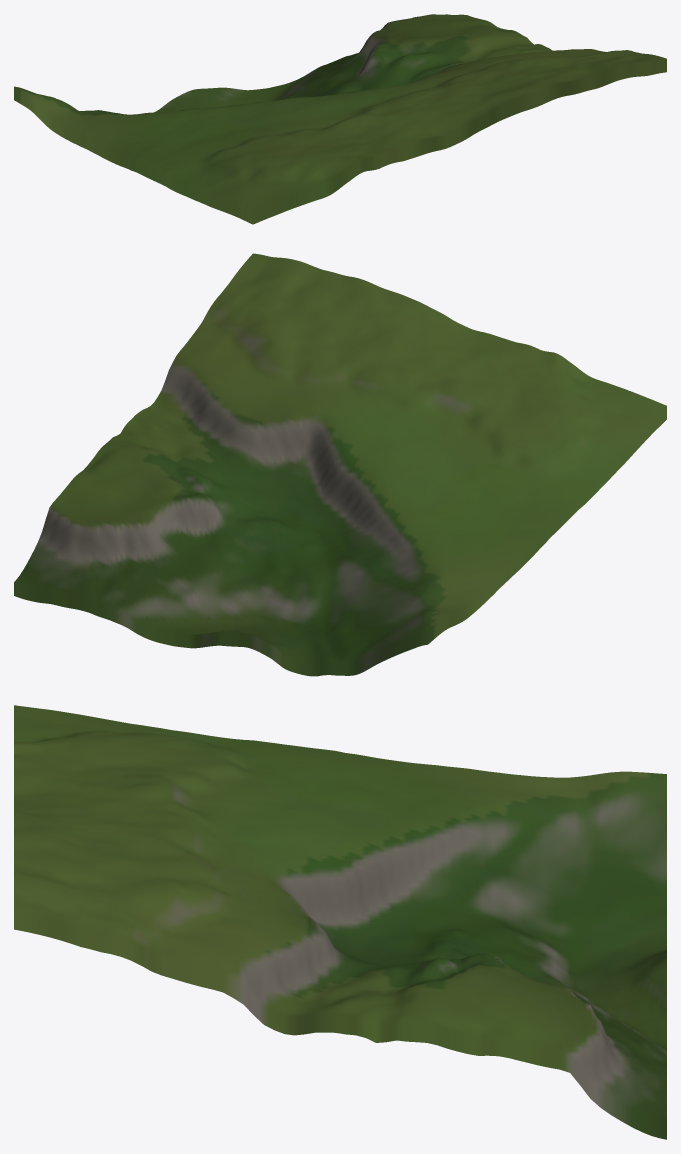
File: terrain_11_-22.glb
The picture shows the model from 3 angles, top to bottom: view 1: azimuth 30°, elevation 25°; view 2: azimuth 150°, elevation 25°; view 3: azimuth 270°, elevation 25°; orthographic projection. The views are drawn at different scales.
Parts seen in each view (by area): view 1: terrain_11_-22; view 2: terrain_11_-22; view 3: terrain_11_-22.
Boxes of the visible parts, left/top/right/bottom form: terrain_11_-22: left=14, top=14, right=666, bottom=224; terrain_11_-22: left=14, top=253, right=666, bottom=676; terrain_11_-22: left=14, top=705, right=666, bottom=1139.
Size of the model in its own units: 256 by 108 by 256.
